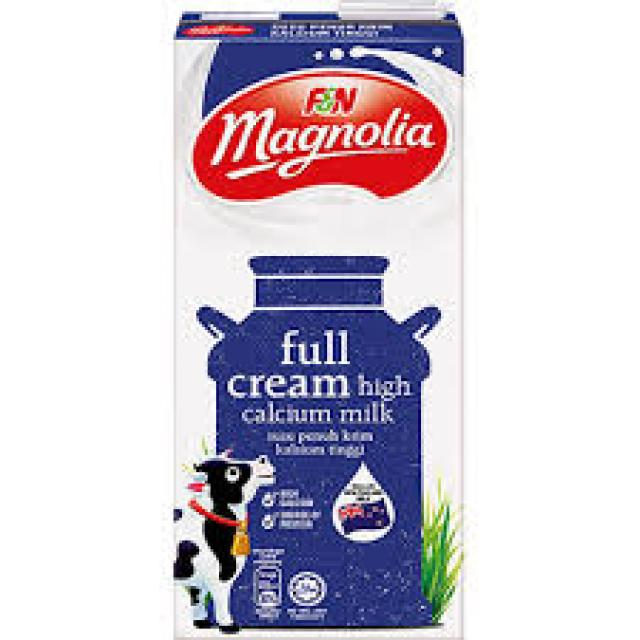non_white_jug: (146, 10, 485, 639)
